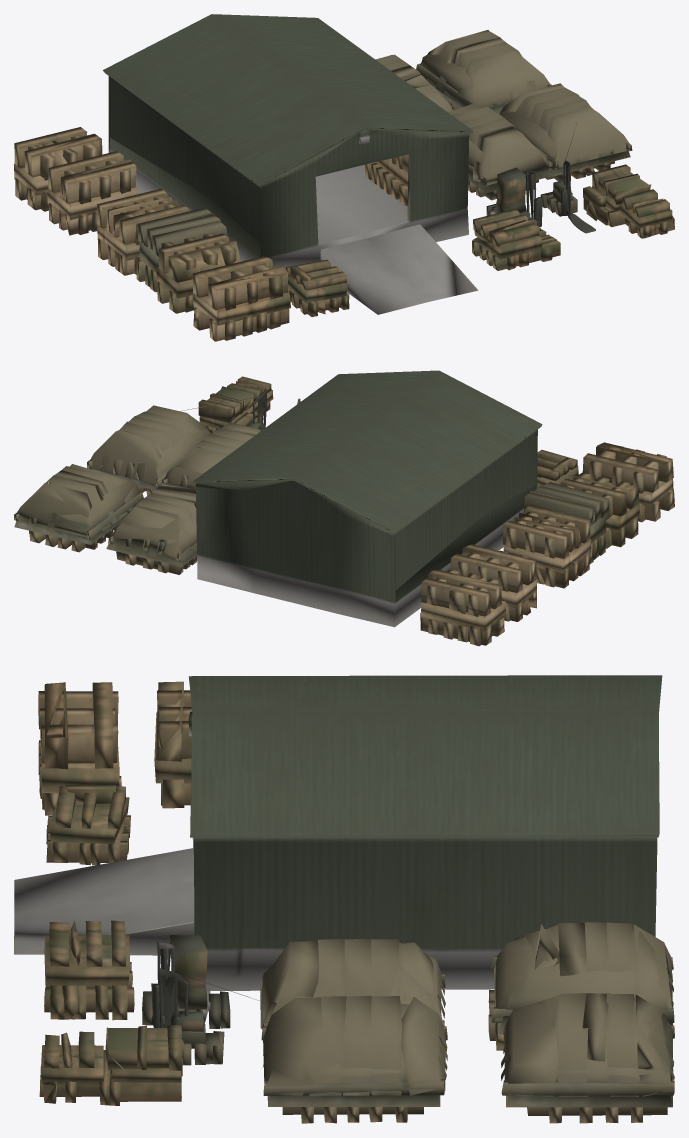
File: cn-supply-center.glb
3 renders of one model, top to bottom at view 1: azimuth 30°, elevation 25°; view 2: azimuth 150°, elevation 25°; view 3: azimuth 270°, elevation 25°, orthographic. The views are drawn at different scales.
Parts seen in each view (by area): view 1: geometry_0; view 2: geometry_0; view 3: geometry_0.
Boxes of the visible parts, bbox=[...] form: geometry_0: bbox=[14, 14, 674, 341]; geometry_0: bbox=[14, 370, 674, 646]; geometry_0: bbox=[14, 675, 674, 1123].
Size of the model in its own units: 1 by 0.2647 by 0.7678.
1 material, 1 textured.
